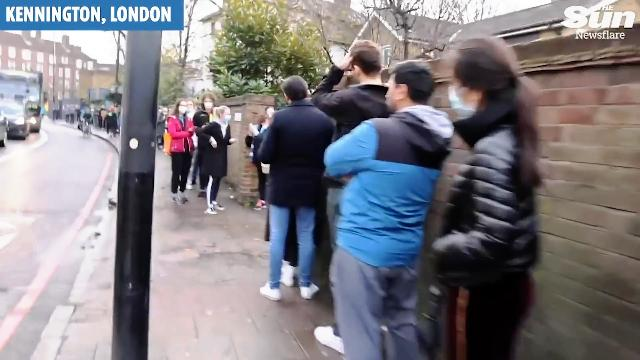berdiri: (312, 58, 452, 360), (443, 32, 549, 360), (251, 71, 335, 301), (193, 90, 239, 214)
